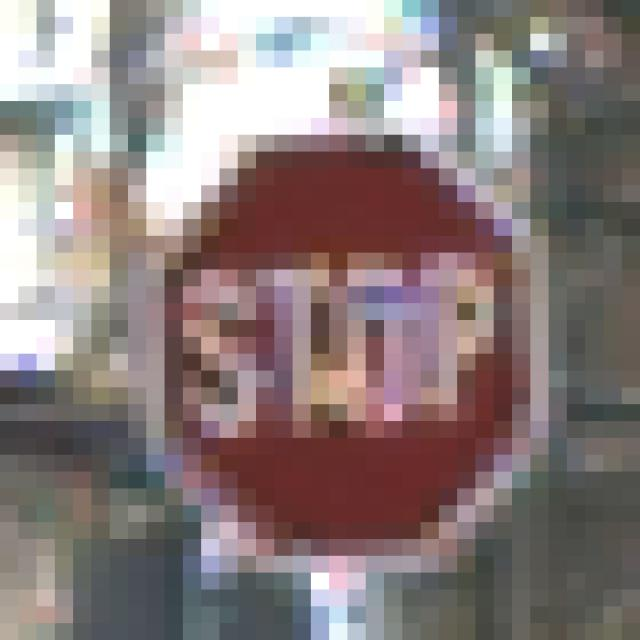STOP: (111, 102, 531, 557)
